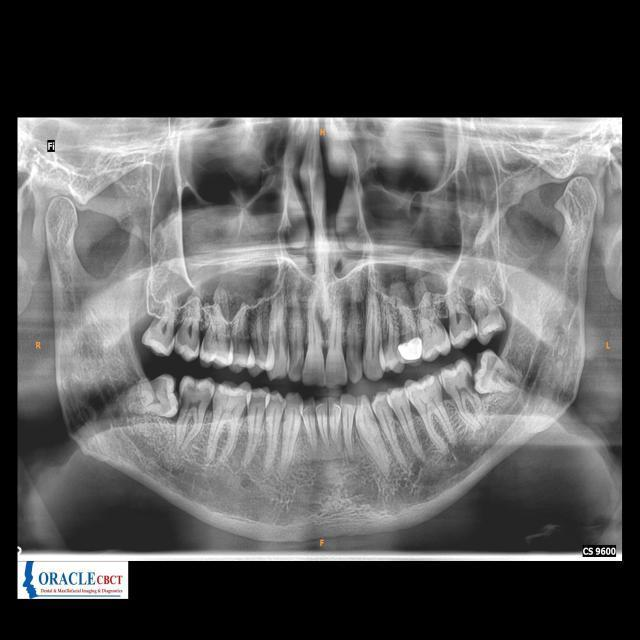dentin-curugu: (460, 371, 478, 394), (178, 389, 192, 416)
kaplama: (397, 336, 424, 359)
